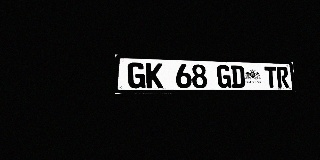plate: (115, 54, 295, 94)
